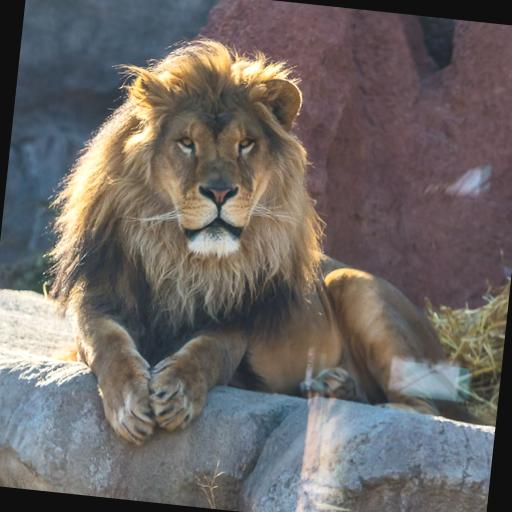lions: (8, 10, 468, 490)
